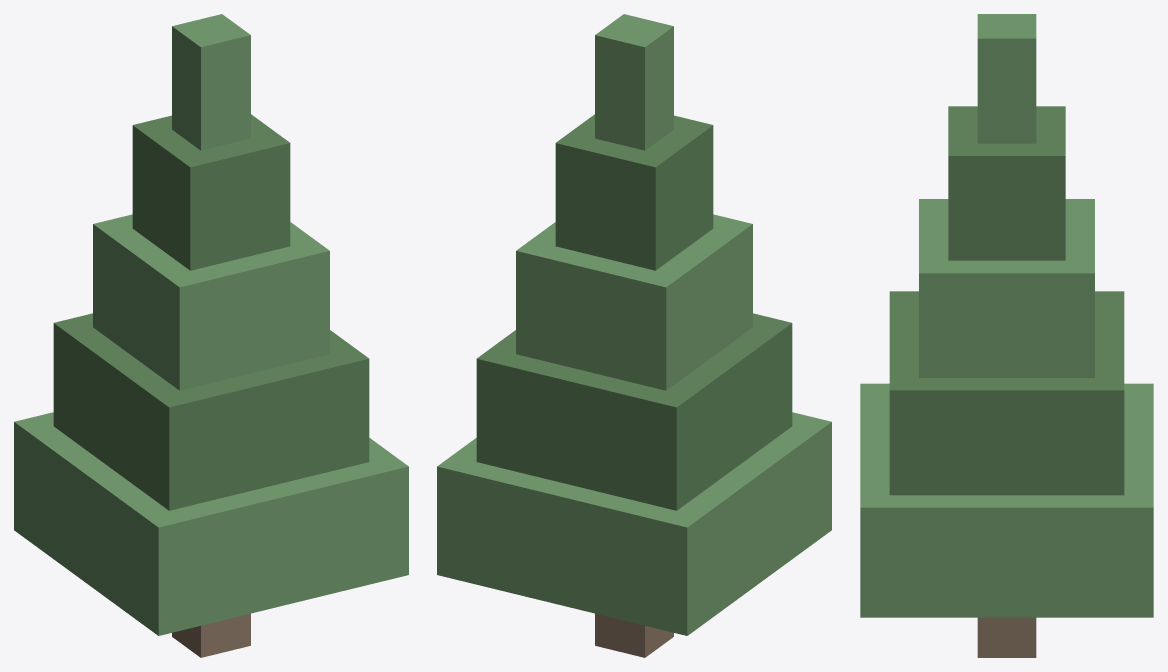
Rendered from propvar_pine_m.glb.
3 renders of one model, left to right at view 1: azimuth 30°, elevation 25°; view 2: azimuth 150°, elevation 25°; view 3: azimuth 270°, elevation 25°, orthographic.
Parts seen in each view (by area): view 1: PropVar_Pine_M; view 2: PropVar_Pine_M; view 3: PropVar_Pine_M.
Boxes of the visible parts, x1=… form: PropVar_Pine_M: x1=14, y1=14, x2=408, y2=657; PropVar_Pine_M: x1=437, y1=14, x2=831, y2=657; PropVar_Pine_M: x1=860, y1=14, x2=1153, y2=657.
Size of the model in its own units: 2.8 by 6.53 by 2.8.
